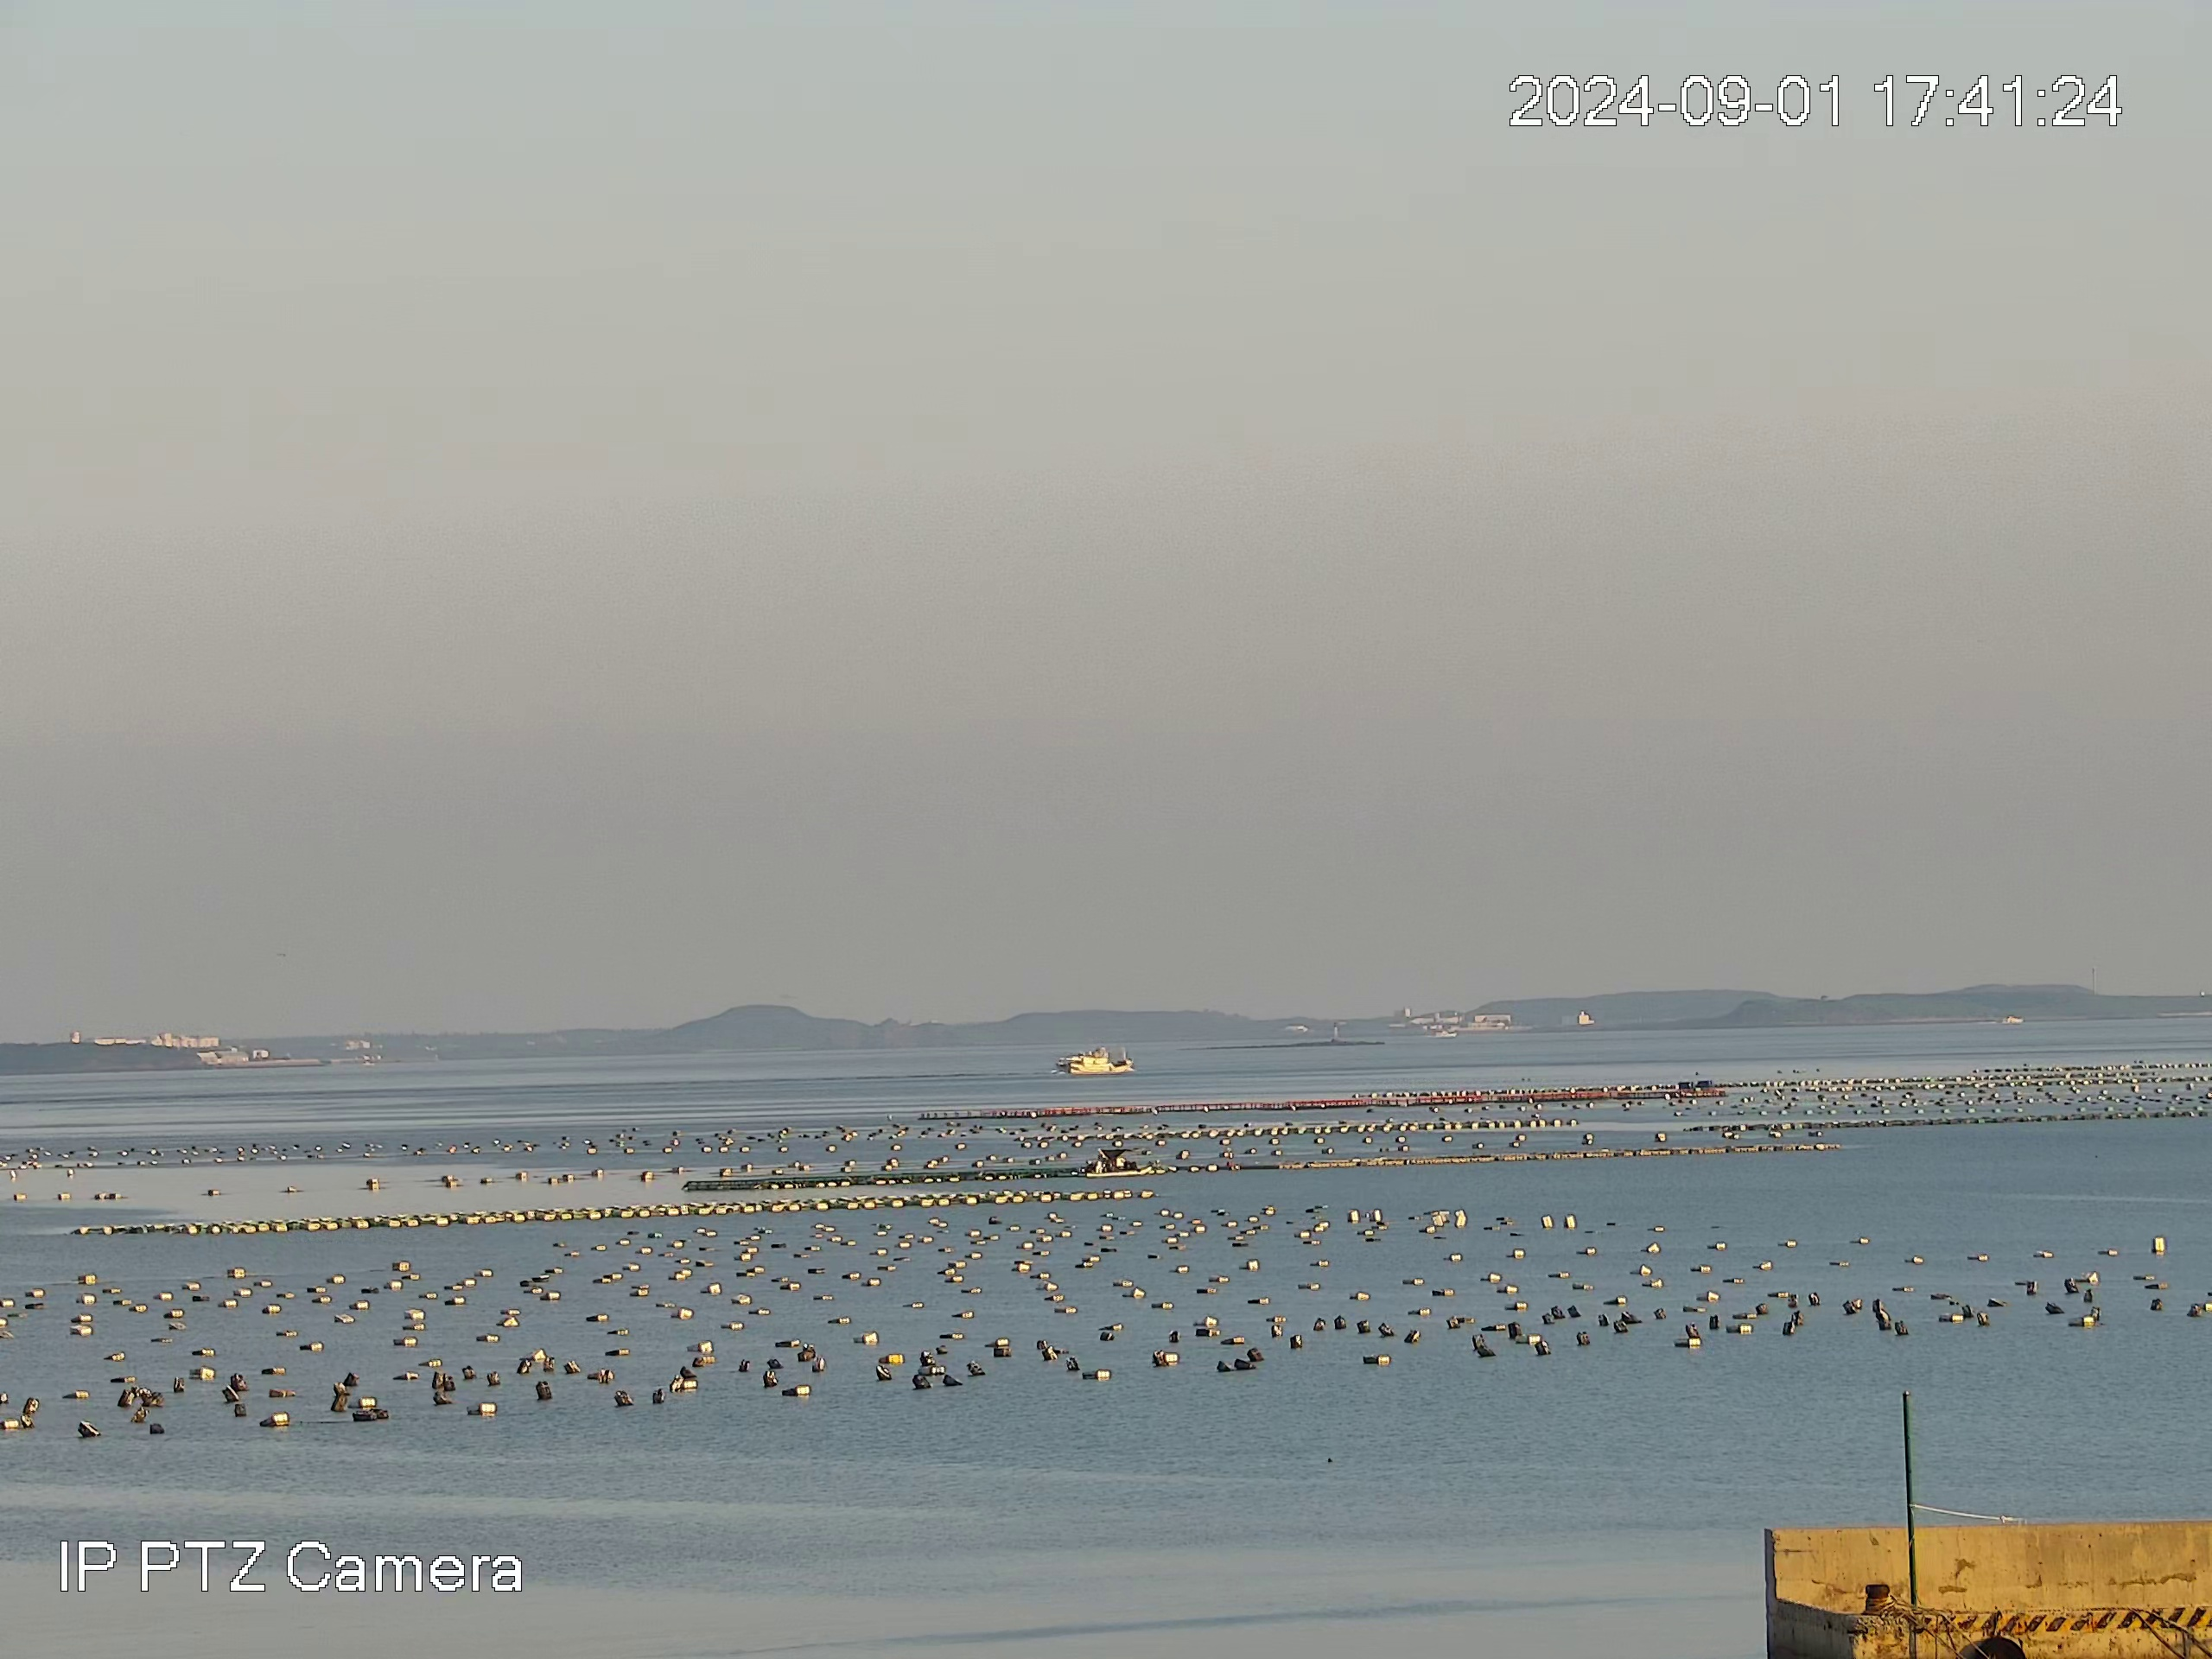boat: (1054, 1046, 1137, 1075), (1090, 1145, 1153, 1180)
